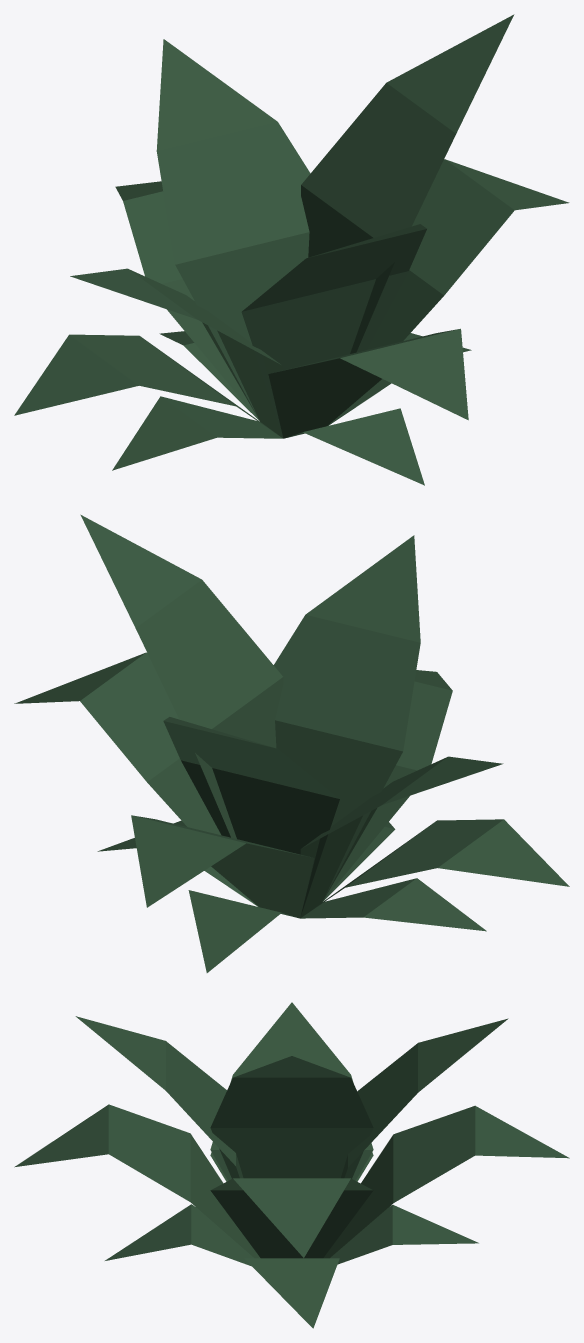
The model's file is bush-safe.glb.
3 renders of one model, top to bottom at view 1: azimuth 30°, elevation 25°; view 2: azimuth 150°, elevation 25°; view 3: azimuth 270°, elevation 25°, orthographic. The views are drawn at different scales.
Visible parts, largest first — view 1: safe-mesh-0-plant_bushDetailed; view 2: safe-mesh-0-plant_bushDetailed; view 3: safe-mesh-0-plant_bushDetailed.
Boxes of the visible parts, bbox=[...] form: safe-mesh-0-plant_bushDetailed: bbox=[14, 14, 569, 485]; safe-mesh-0-plant_bushDetailed: bbox=[14, 514, 569, 972]; safe-mesh-0-plant_bushDetailed: bbox=[14, 1002, 569, 1328].
Size of the model in its own units: 0.6025 by 0.3604 by 0.6025.
